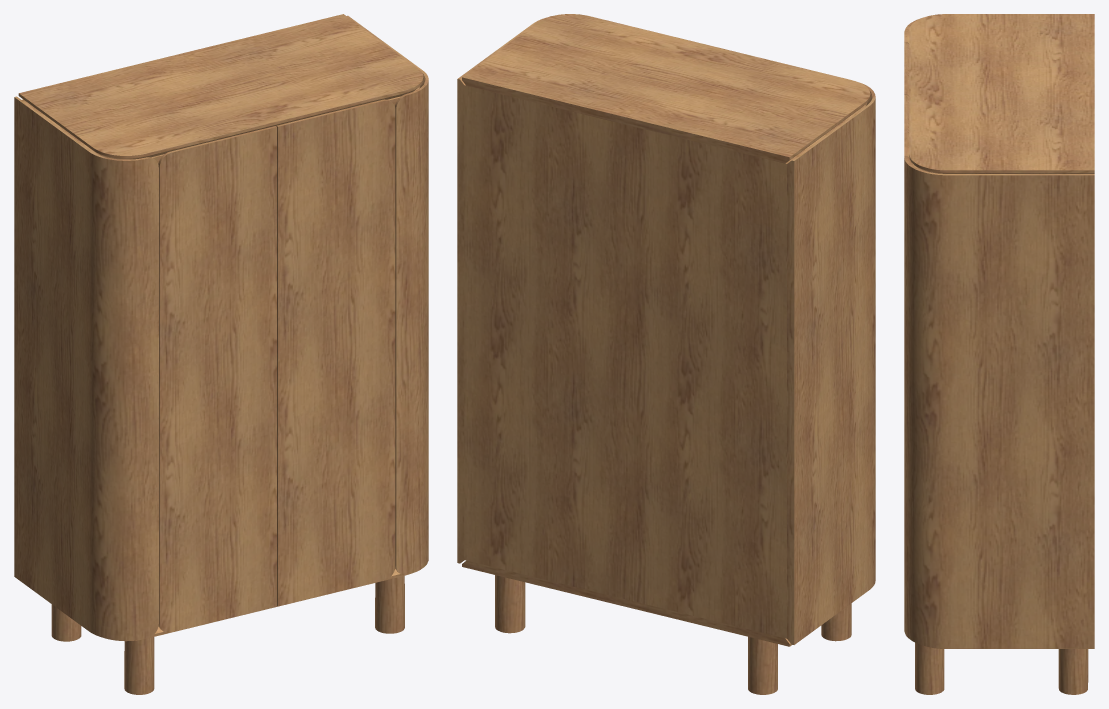
Rendered from sideboard.glb.
3 views of the same model, side by side, from view 1: azimuth 30°, elevation 25°; view 2: azimuth 150°, elevation 25°; view 3: azimuth 270°, elevation 25° (orthographic). The views are drawn at different scales.
Bounding box in the file's own units: 0.9 × 1.4 × 0.45.
2 materials, 2 textured.
